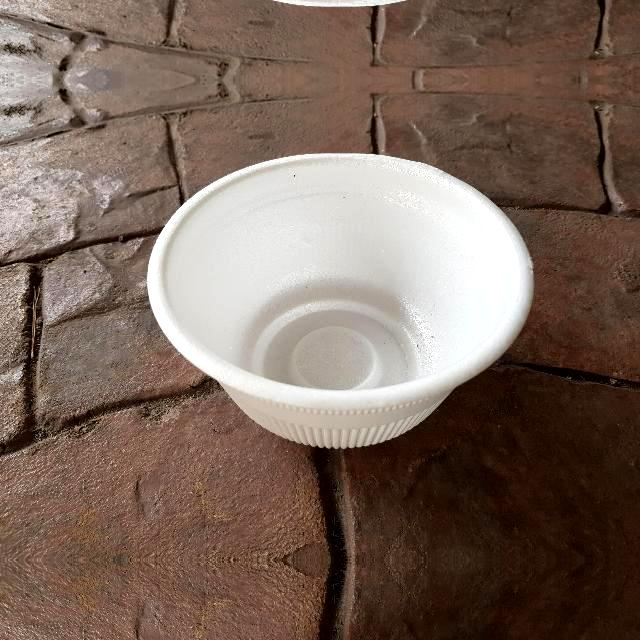Styrofoam: (145, 150, 533, 450), (147, 153, 534, 448)
